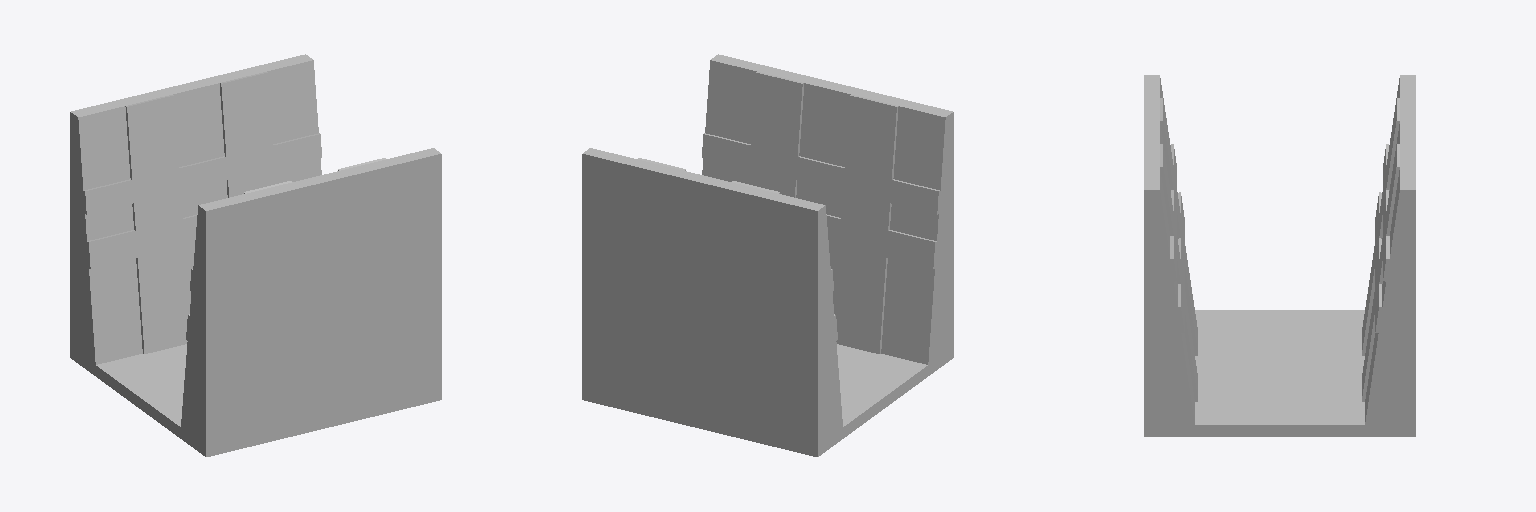
File: TrenchStraight.obj
The picture shows the model from 3 angles: view 1: azimuth 30°, elevation 25°; view 2: azimuth 150°, elevation 25°; view 3: azimuth 270°, elevation 25°; orthographic projection.
Parts seen in each view (by area): view 1: Cube; view 2: Cube; view 3: Cube.
Boxes of the visible parts, box(x1,y1,x2,y2) form: Cube: box(70, 54, 441, 456); Cube: box(582, 54, 953, 456); Cube: box(1144, 75, 1415, 436).
Size of the model in its own units: 2 by 2.01 by 2.